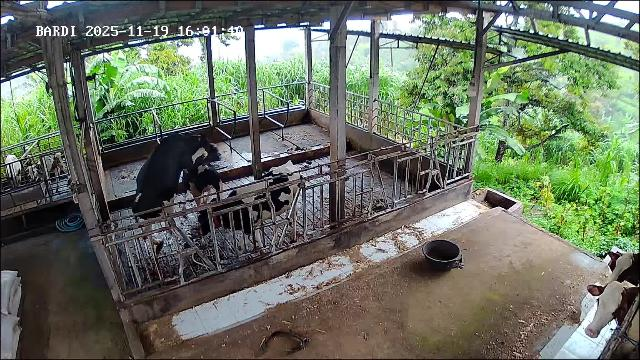mounting: (126, 133, 211, 264)
